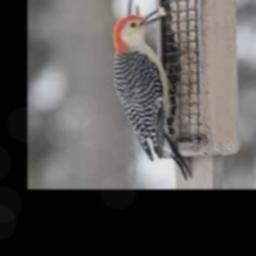Woodpecker: (114, 8, 192, 180)
